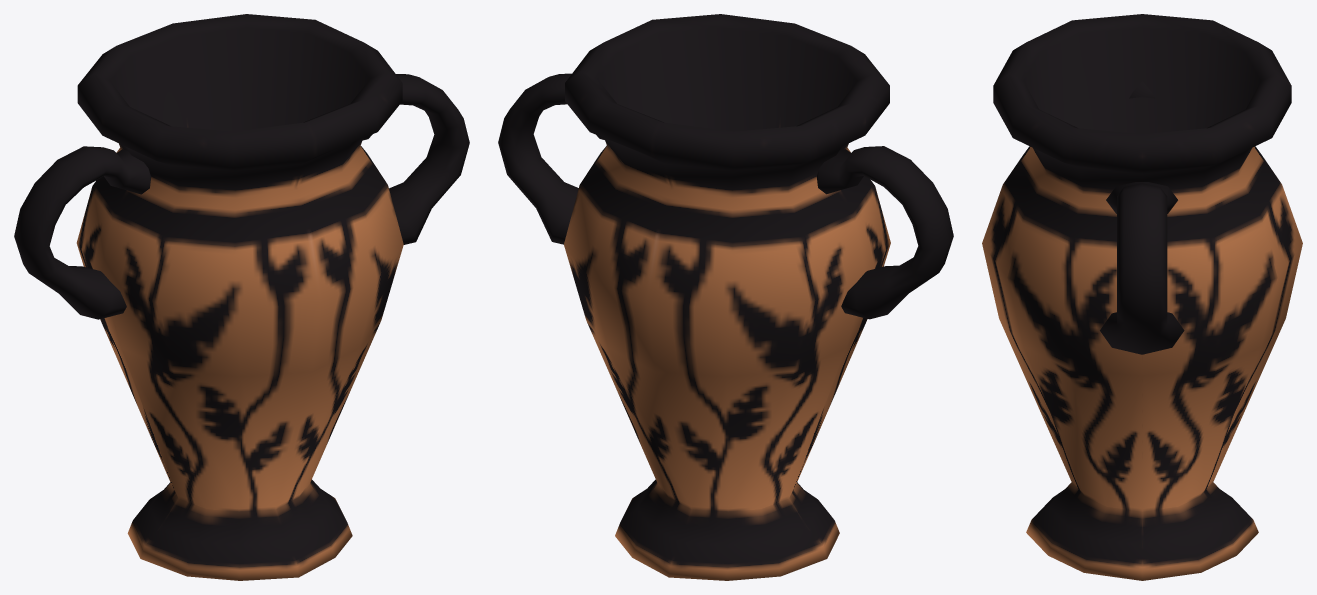
Rendered from prop_temple_jar2.fbx.
3 views of the same model, side by side, from view 1: azimuth 30°, elevation 25°; view 2: azimuth 150°, elevation 25°; view 3: azimuth 270°, elevation 25° (orthographic).
Parts seen in each view (by area): view 1: jar2; view 2: jar2; view 3: jar2.
Part boxes in pixels (x1=…): jar2: x1=14, y1=14, x2=469, y2=580; jar2: x1=498, y1=14, x2=953, y2=580; jar2: x1=982, y1=14, x2=1302, y2=580.
Size of the model in its own units: 0.7886 by 0.7825 by 0.4964.
1 material, 1 textured.
